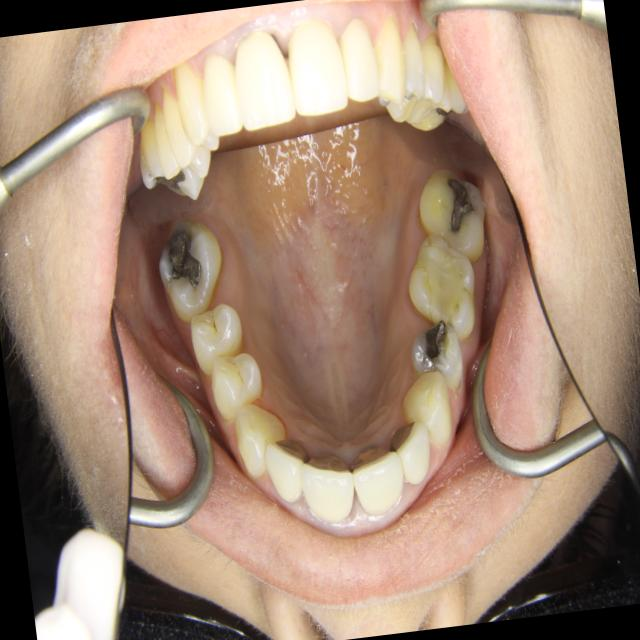tooth: (396, 203, 489, 354), (401, 149, 496, 270), (145, 207, 237, 325), (174, 282, 264, 382), (291, 435, 367, 541), (340, 425, 417, 529), (222, 382, 295, 490), (198, 335, 279, 428), (391, 359, 465, 455), (402, 311, 471, 404), (380, 409, 445, 502), (255, 418, 311, 518)
